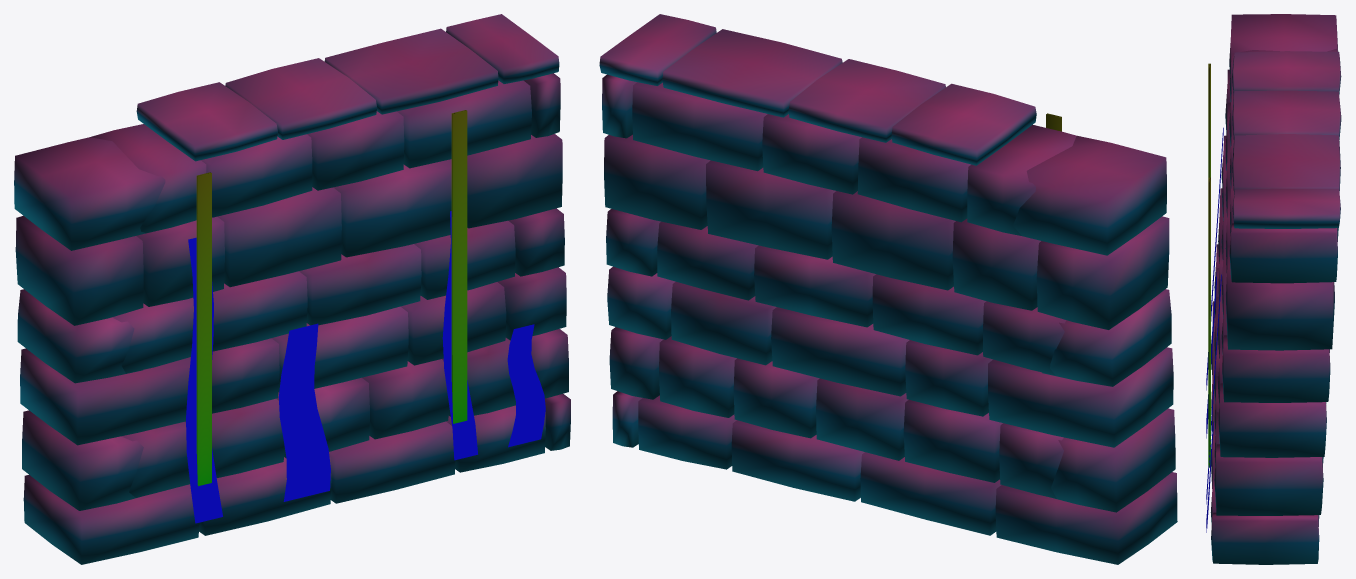
Rendered from lit_terrace_wall.glb.
3 views of the same model, side by side, from view 1: azimuth 30°, elevation 25°; view 2: azimuth 150°, elevation 25°; view 3: azimuth 270°, elevation 25° (orthographic). The views are drawn at different scales.
Visible parts, largest first — view 1: lit_terrace_wall; view 2: lit_terrace_wall; view 3: lit_terrace_wall.
Part boxes in pixels (box(x1,y1,x2,y2)): lit_terrace_wall: box(14, 14, 570, 564); lit_terrace_wall: box(599, 14, 1177, 564); lit_terrace_wall: box(1206, 14, 1341, 564).
Size of what is drawn, in the model's own units: 11.97 by 9 by 3.1.
